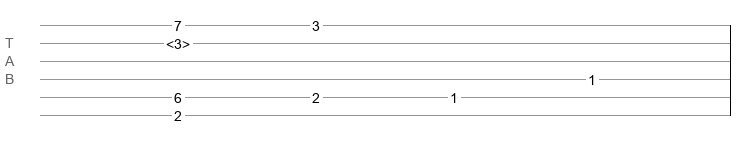1: (450, 90, 458, 100), (588, 72, 596, 82)
2: (174, 108, 182, 118), (312, 90, 320, 100)
3: (312, 18, 320, 28)
6: (174, 90, 182, 100)
7: (174, 18, 182, 28)
harmonic: (166, 36, 190, 46)
